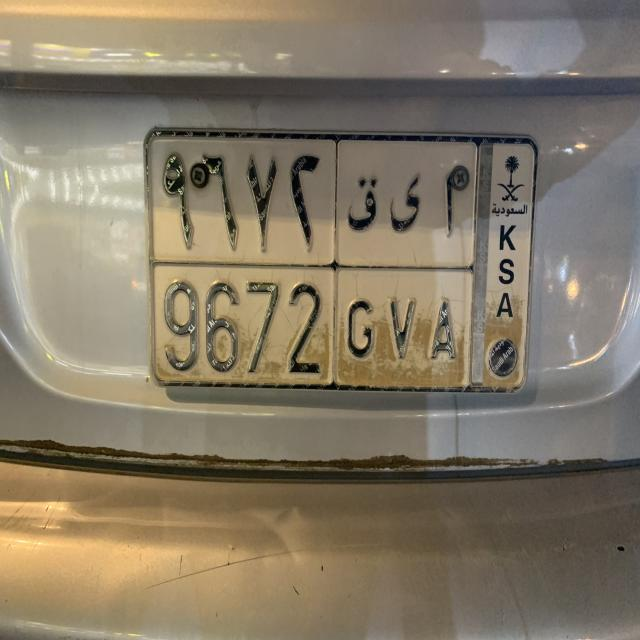license_plate: (140, 121, 542, 399)
